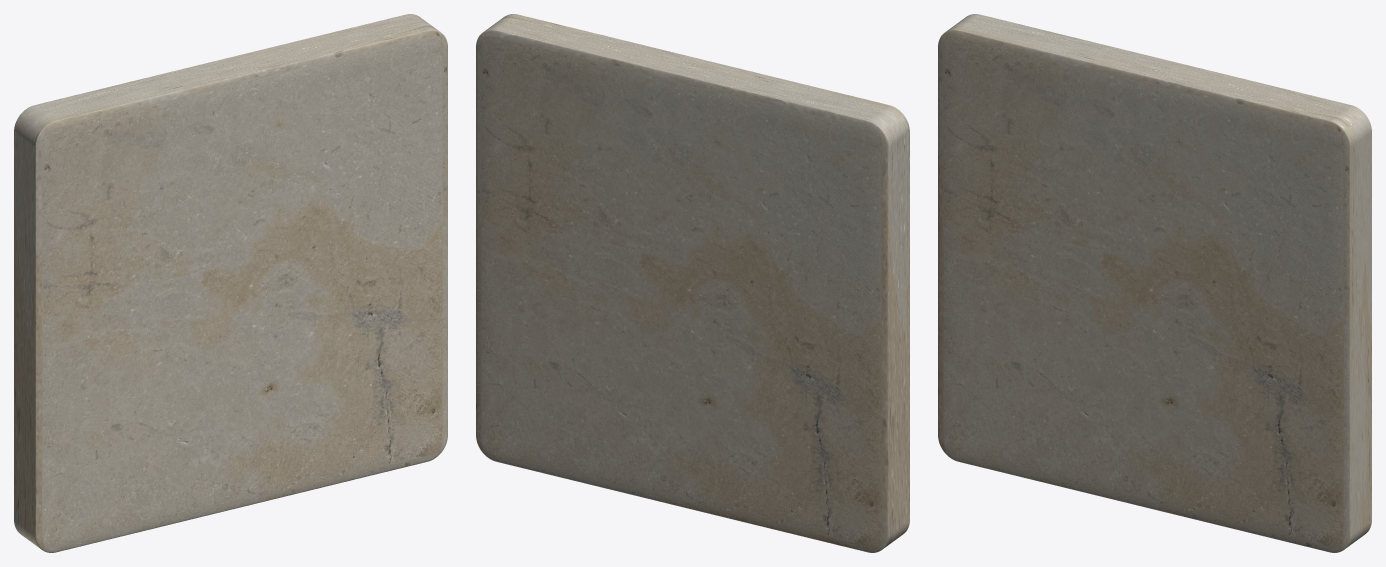
The model's file is limestone-09.glb.
The picture shows the model from 3 angles, left to right: view 1: azimuth 30°, elevation 25°; view 2: azimuth 150°, elevation 25°; view 3: azimuth 330°, elevation 25°; orthographic projection.
Visible parts, largest first — view 1: Cube; view 2: Cube; view 3: Cube.
Part boxes in pixels (box(x1,y1,x2,y2)): Cube: box(14, 14, 447, 552); Cube: box(476, 14, 909, 552); Cube: box(938, 14, 1371, 552).
Bounding box in the file's own units: 0.1 × 0.1 × 0.01.
2 materials, 2 textured.
